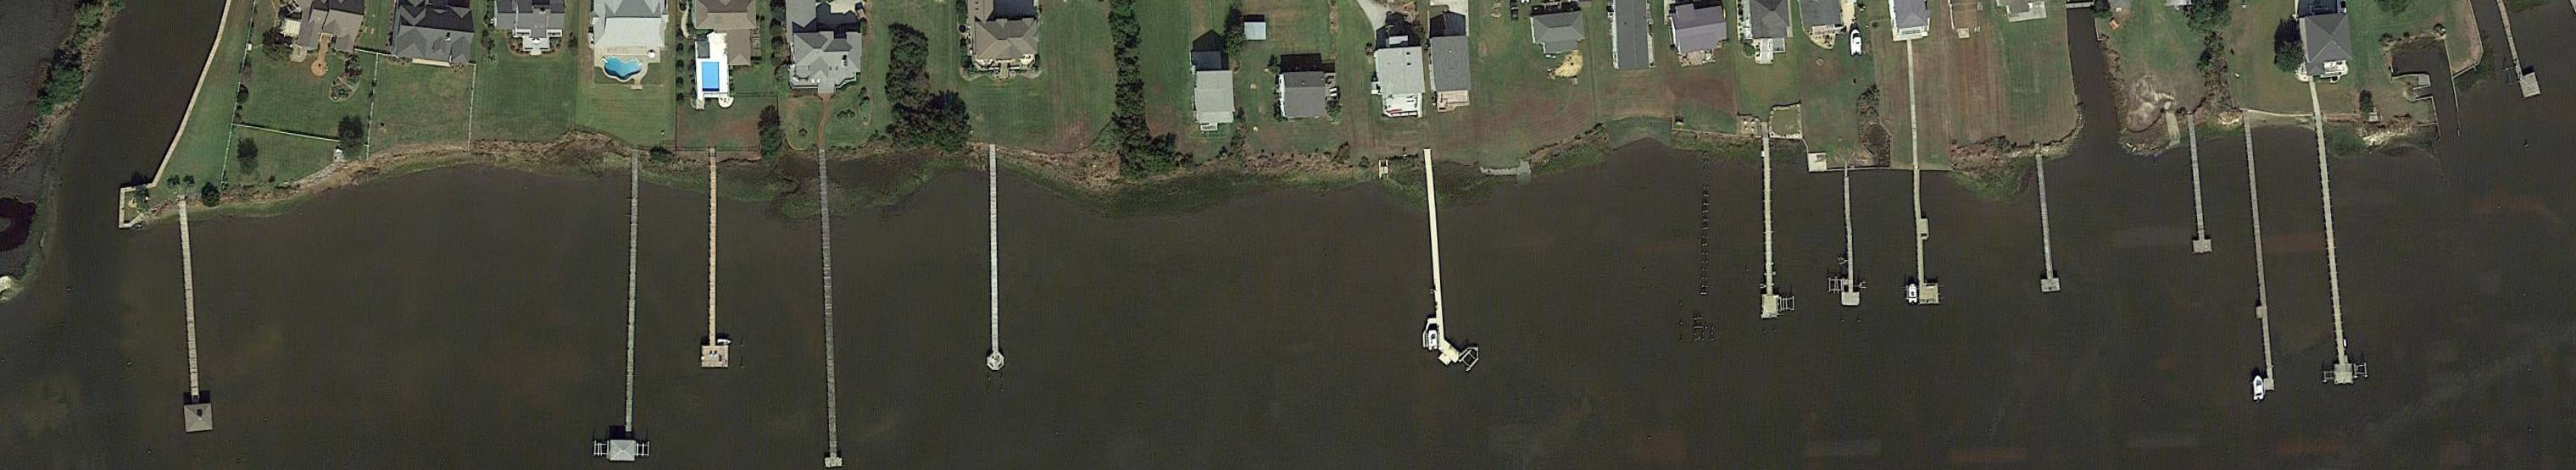harbor: (2308, 113, 2354, 385), (2238, 123, 2275, 393), (608, 173, 642, 462), (813, 156, 843, 468), (173, 215, 214, 432), (1424, 156, 1464, 368), (703, 168, 729, 368), (984, 150, 1005, 371), (2029, 154, 2060, 294), (1756, 138, 1779, 320), (2499, 3, 2541, 100), (2183, 127, 2213, 255), (1914, 169, 1940, 306), (1838, 174, 1861, 306)
swimming pool: (701, 61, 721, 92)
